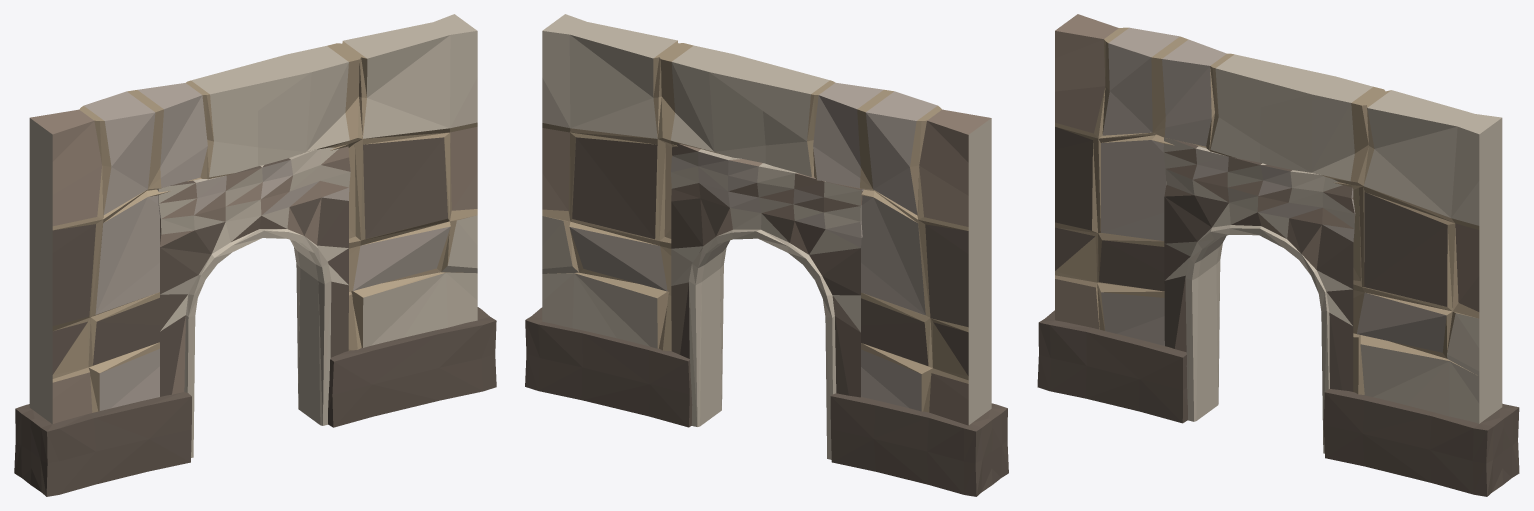
The model's file is RG-Dungeon_Entrance-02.fbx.
The picture shows the model from 3 angles, left to right: view 1: azimuth 30°, elevation 25°; view 2: azimuth 150°, elevation 25°; view 3: azimuth 330°, elevation 25°; orthographic projection.
Visible parts, largest first — view 1: RG-Dungeon_Entrance-02; view 2: RG-Dungeon_Entrance-02; view 3: RG-Dungeon_Entrance-02.
Boxes of the visible parts, box(x1,y1,x2,y2) form: RG-Dungeon_Entrance-02: box(14, 14, 496, 496); RG-Dungeon_Entrance-02: box(525, 14, 1008, 496); RG-Dungeon_Entrance-02: box(1037, 14, 1519, 496).
Bounding box in the file's own units: 21.2 × 16.05 × 2.66.
